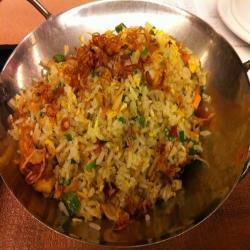rice: (10, 29, 210, 237)
